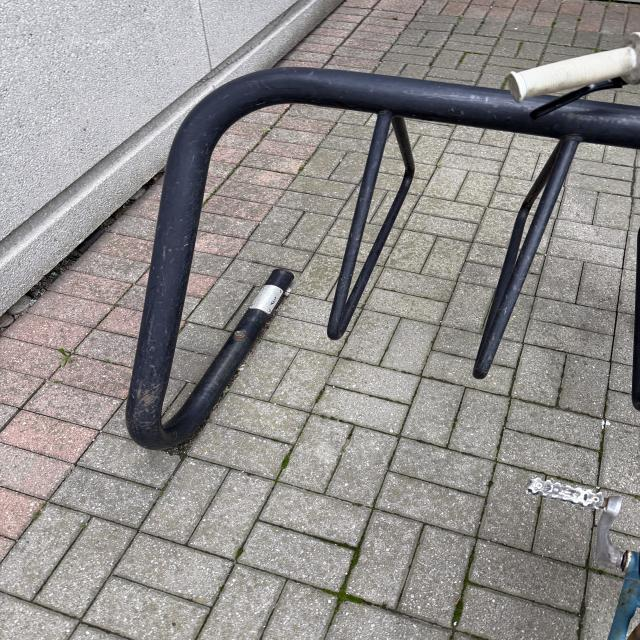Bicycle Rack: (122, 61, 640, 451)
